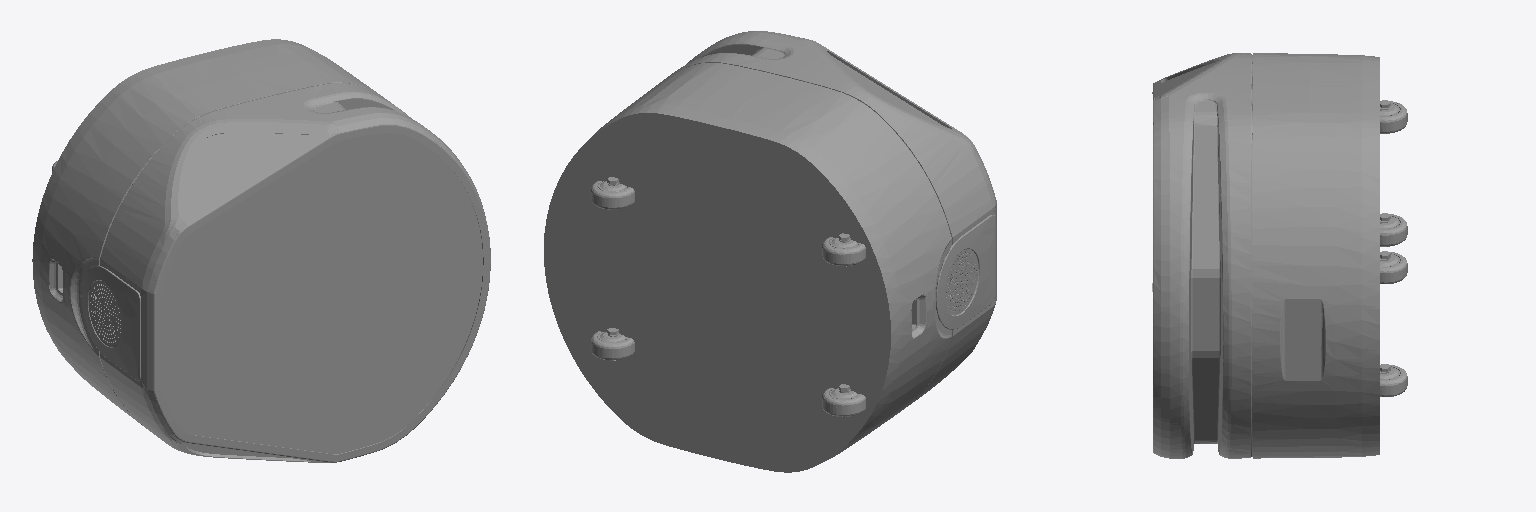
The picture shows the model from 3 angles: view 1: azimuth 30°, elevation 25°; view 2: azimuth 150°, elevation 25°; view 3: azimuth 270°, elevation 25°; orthographic projection.
Visible parts, largest first — view 1: base_link_base_link; view 2: base_link_base_link; view 3: base_link_base_link.
Part boxes in pixels (x1,y1,x2,y2): base_link_base_link: (32, 39, 490, 462); base_link_base_link: (544, 31, 996, 472); base_link_base_link: (1152, 53, 1407, 458).
Size of the model in its own units: 0.5733 by 0.5283 by 0.3589.